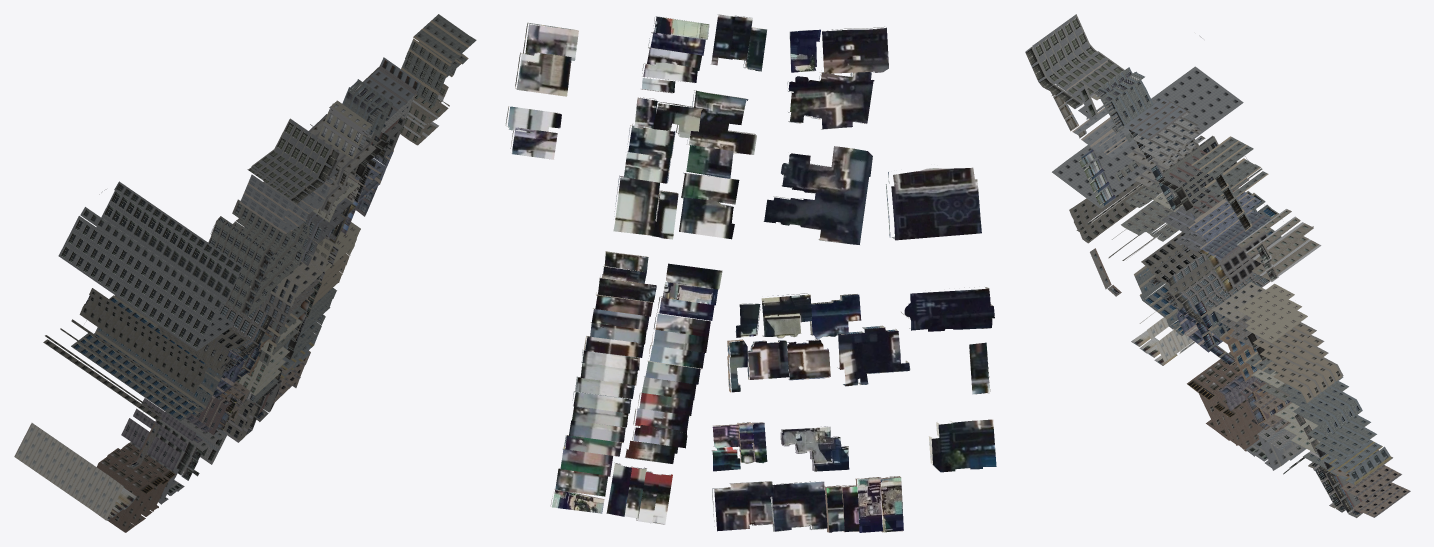
The model's file is tile_LOD4_r5_c10.glb.
3 views of the same model, side by side, from view 1: azimuth 30°, elevation 25°; view 2: azimuth 150°, elevation 25°; view 3: azimuth 270°, elevation 25° (orthographic). The views are drawn at different scales.
Bounding box in the file's own units: 192 × 171 × 135.
Materials: 270 (270 with a texture image).
